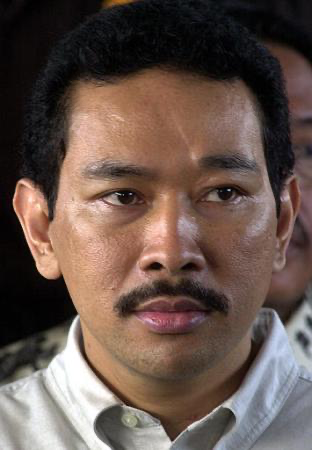Face: (48, 134, 283, 385), (254, 63, 311, 309)
